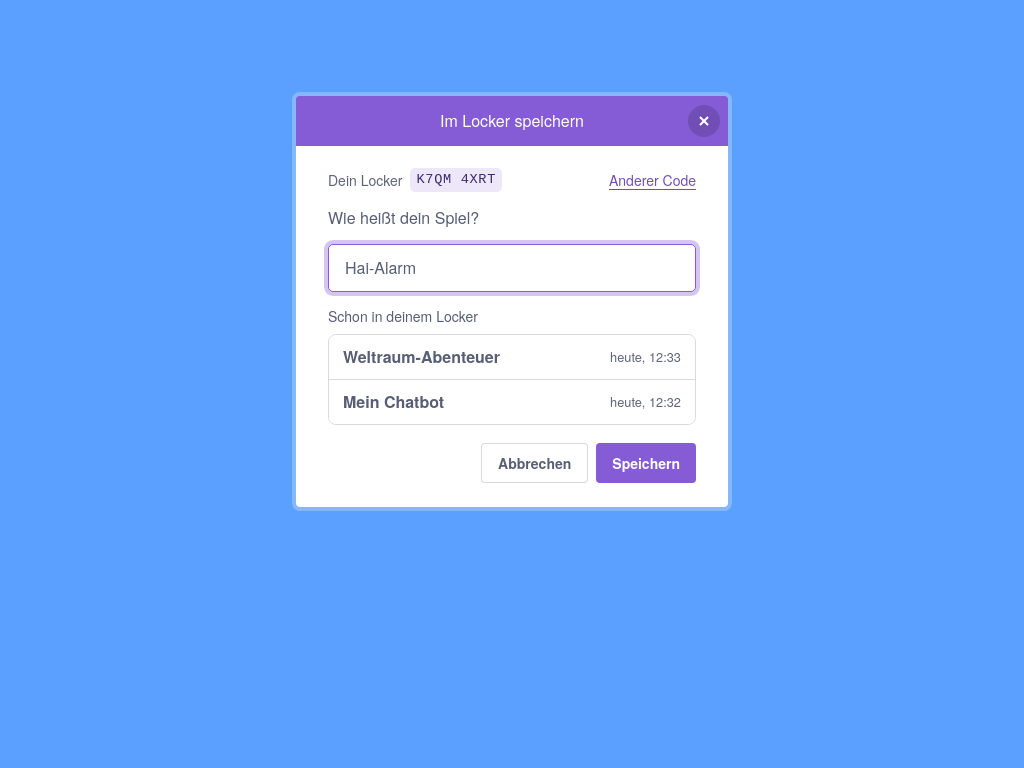
Test: LockerDialog › a new name saves a new game and becomes the title
Expected: the field labelled "Wie heißt dein Spiel?" is shown, [328,244,696,292]
Click the button "Speichern" at (646, 463), box [596,443,696,483]
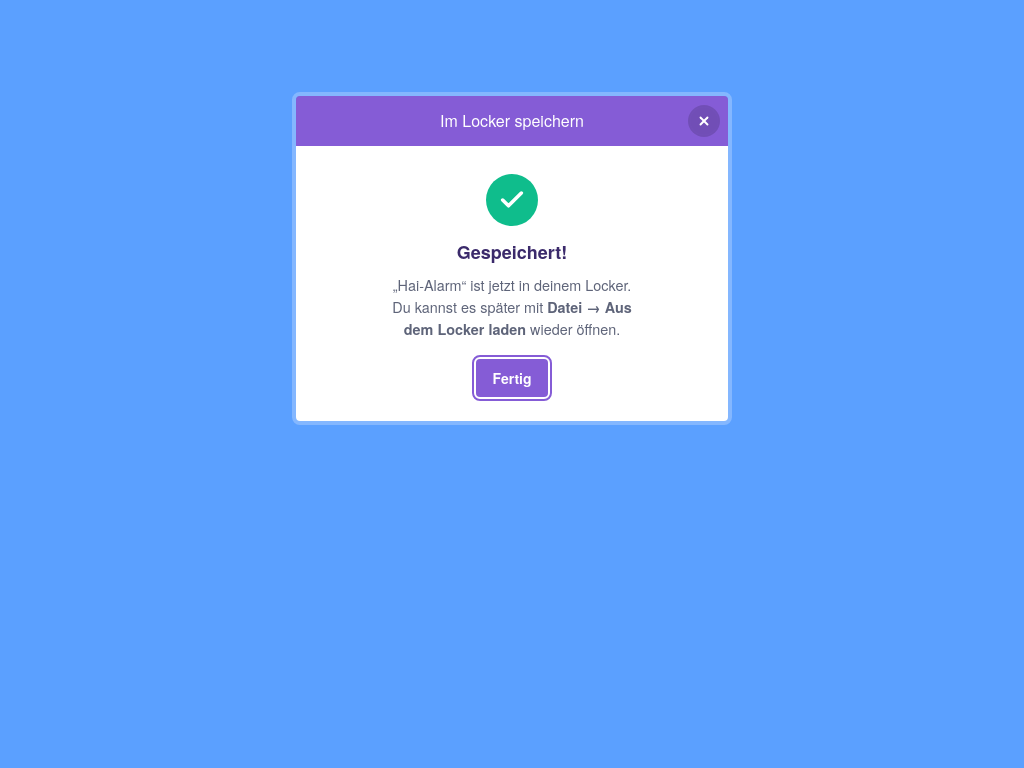
Expected: the text "Gespeichert!" is shown, [457,238,567,266]
